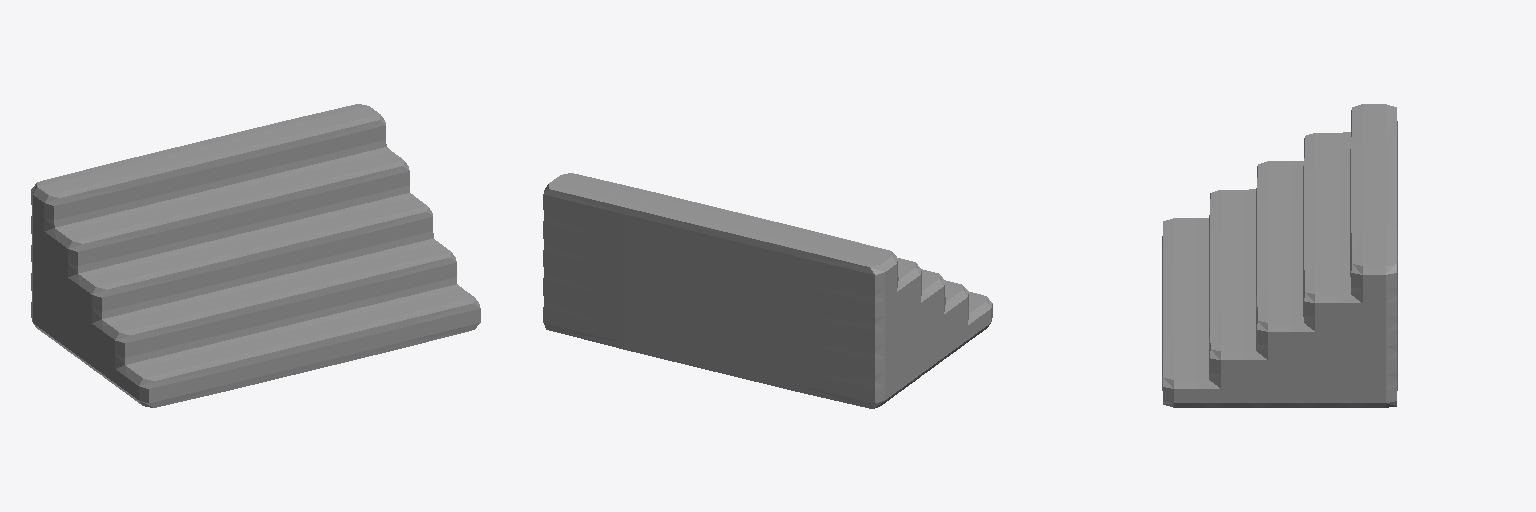
Rendered from Grada2.obj.
The picture shows the model from 3 angles: view 1: azimuth 30°, elevation 25°; view 2: azimuth 150°, elevation 25°; view 3: azimuth 270°, elevation 25°; orthographic projection.
Visible parts, largest first — view 1: Cube.000_Cube.002; view 2: Cube.000_Cube.002; view 3: Cube.000_Cube.002.
Part boxes in pixels (x1,y1,x2,y2): Cube.000_Cube.002: (31, 104, 480, 407); Cube.000_Cube.002: (543, 173, 992, 408); Cube.000_Cube.002: (1162, 104, 1397, 407).
Bounding box in the file's own units: 2.5 × 1 × 1.5.